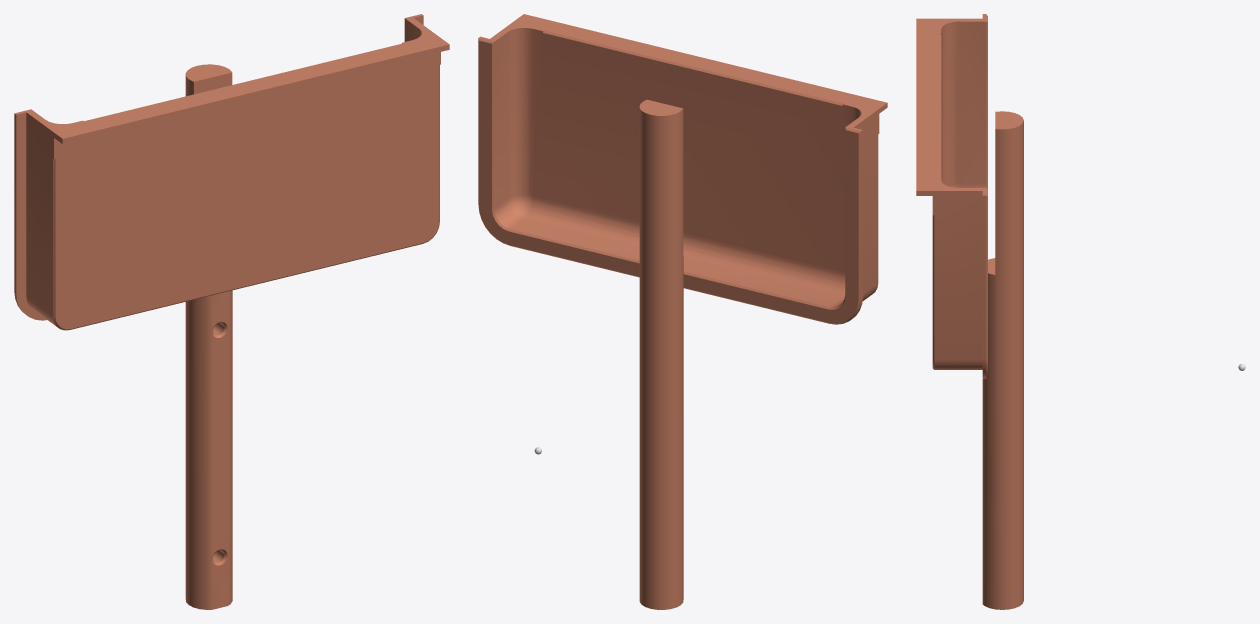
The model's file is lunex matt r gold.glb.
3 renders of one model, left to right at view 1: azimuth 30°, elevation 25°; view 2: azimuth 150°, elevation 25°; view 3: azimuth 270°, elevation 25°, orthographic. The views are drawn at different scales.
Visible parts, largest first — view 1: CB_LUNEX_; view 2: CB_LUNEX_; view 3: CB_LUNEX_.
Part boxes in pixels (x1,y1,x2,y2): CB_LUNEX_: [14, 14, 449, 609]; CB_LUNEX_: [478, 14, 887, 609]; CB_LUNEX_: [916, 14, 1023, 609].
Bounding box in the file's own units: 1.4 × 1.78 × 1.07.
